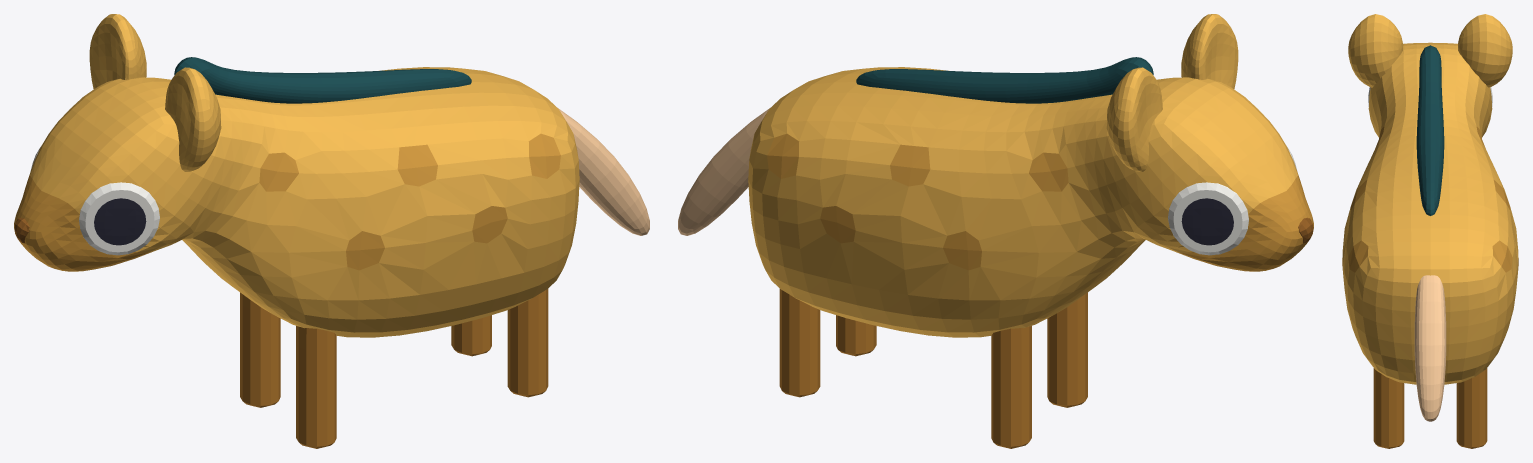
The model's file is Hyena_LOD0.fbx.
The picture shows the model from 3 angles, left to right: view 1: azimuth 30°, elevation 25°; view 2: azimuth 150°, elevation 25°; view 3: azimuth 270°, elevation 25°; orthographic projection. The views are drawn at different scales.
Parts seen in each view (by area): view 1: Mesh; view 2: Mesh; view 3: Mesh.
Part boxes in pixels (x1=…): Mesh: x1=14, y1=14, x2=649, y2=448; Mesh: x1=678, y1=14, x2=1313, y2=448; Mesh: x1=1342, y1=14, x2=1518, y2=448.
Bounding box in the file's own units: 292 × 182 × 95.54.
Materials: 1 (1 with a texture image).
